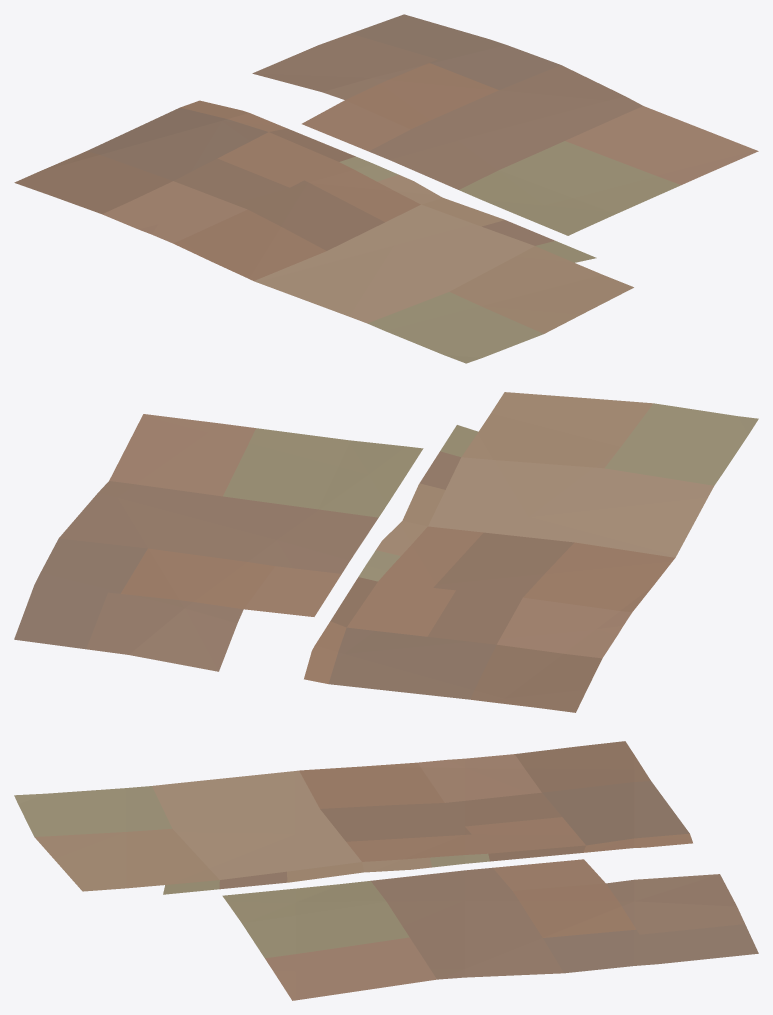
The model's file is farm_-5_11_soil.glb.
3 renders of one model, top to bottom at view 1: azimuth 30°, elevation 25°; view 2: azimuth 150°, elevation 25°; view 3: azimuth 270°, elevation 25°, orthographic. The views are drawn at different scales.
Visible parts, largest first — view 1: geometry_0; view 2: geometry_0; view 3: geometry_0.
Part boxes in pixels (box(x1,y1,x2,y2)): geometry_0: box(14, 14, 758, 363); geometry_0: box(14, 392, 758, 712); geometry_0: box(14, 741, 758, 1000).
Bounding box in the file's own units: 308 × 8.76 × 352.
